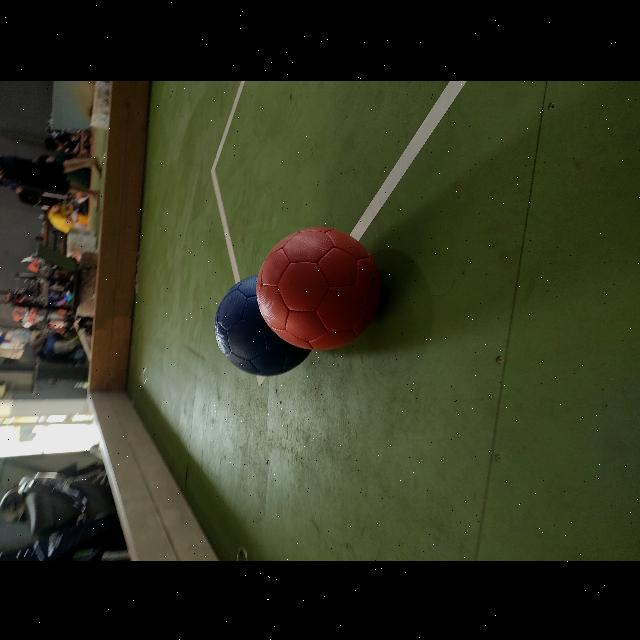B: (215, 275, 309, 375)
R: (256, 226, 381, 349)
